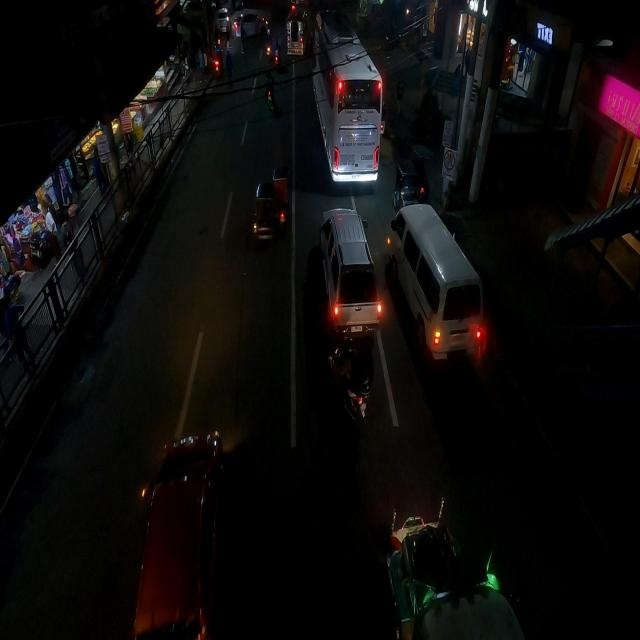Van: (388, 200, 486, 371)
